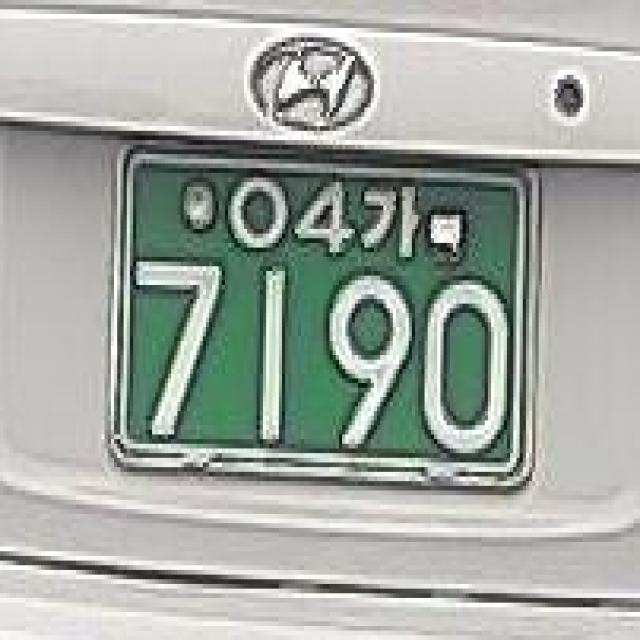illegal_plate: (91, 119, 558, 525)
